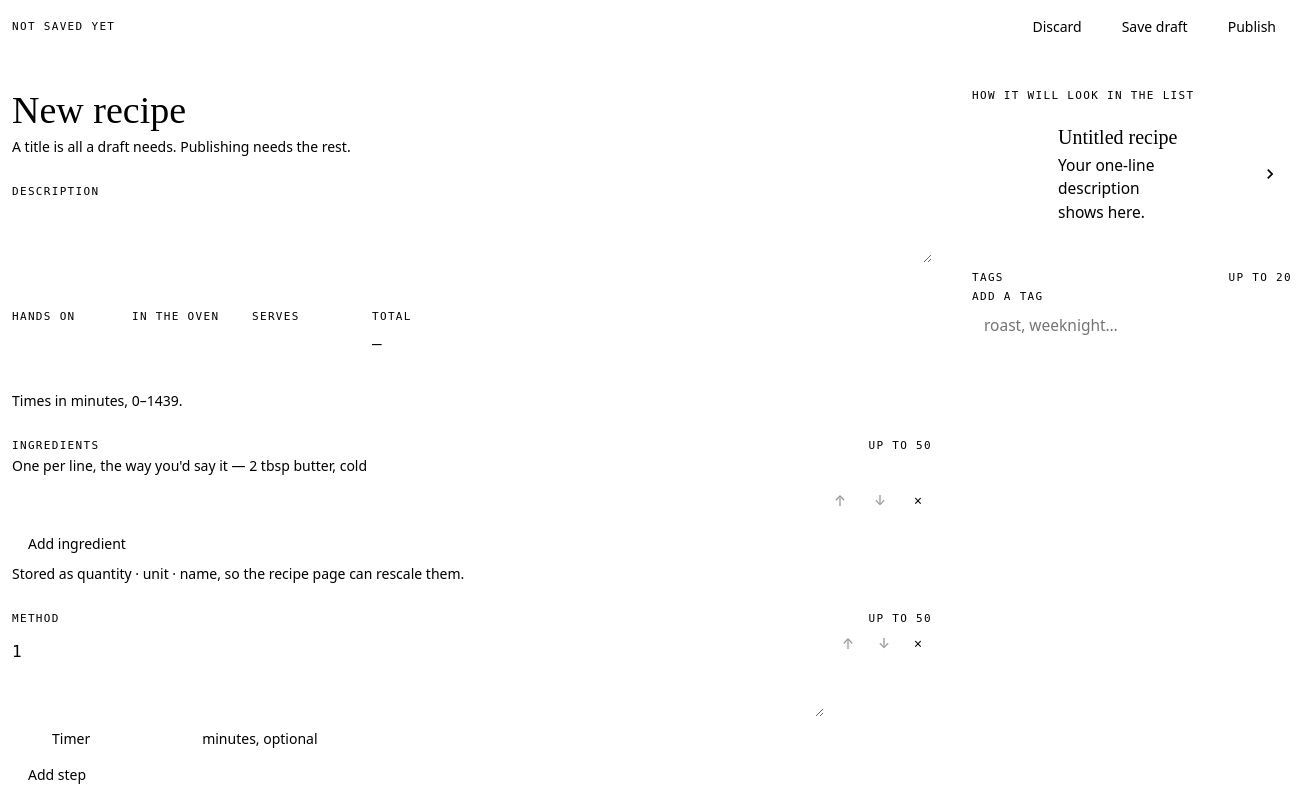
RecipeFormPage — new recipe › saves a draft and replaces the URL with its edit screen
Type "Half a roast" into the field named "Recipe title" at (472, 113), box [12,90,932,136]
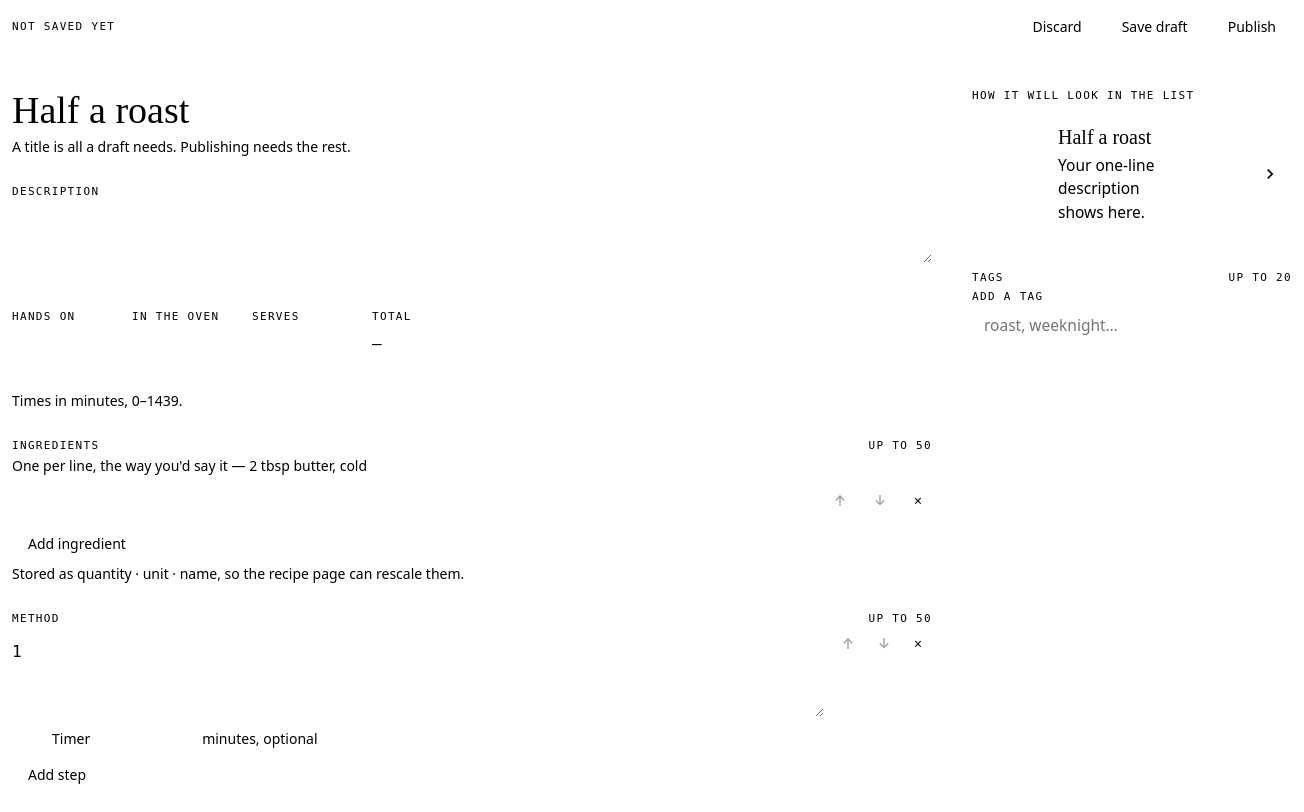
Click the button "Save draft" at (1155, 27), box [1106,12,1204,42]
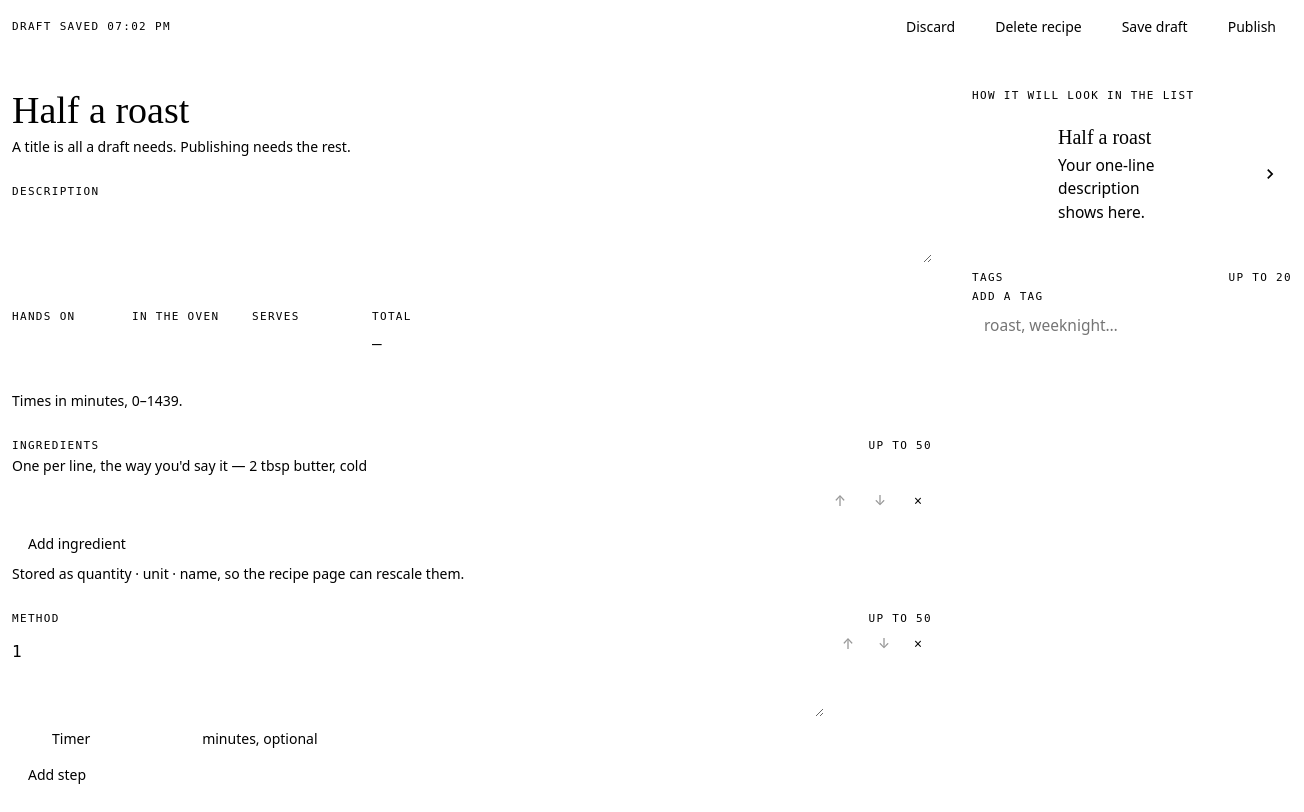
Check: the text "Draft saved 07:02 PM" is shown, box [12,22,171,32]
